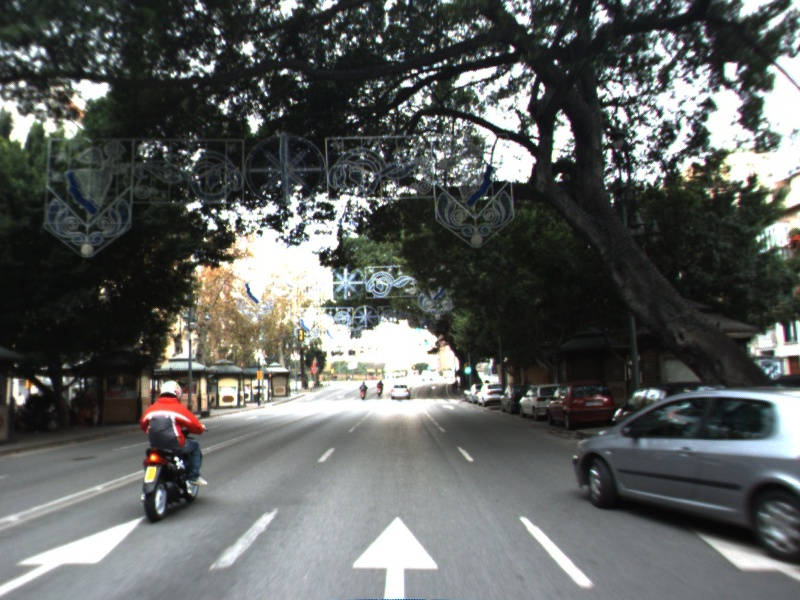STRAIGHT: (1, 510, 151, 597), (348, 511, 444, 600)
